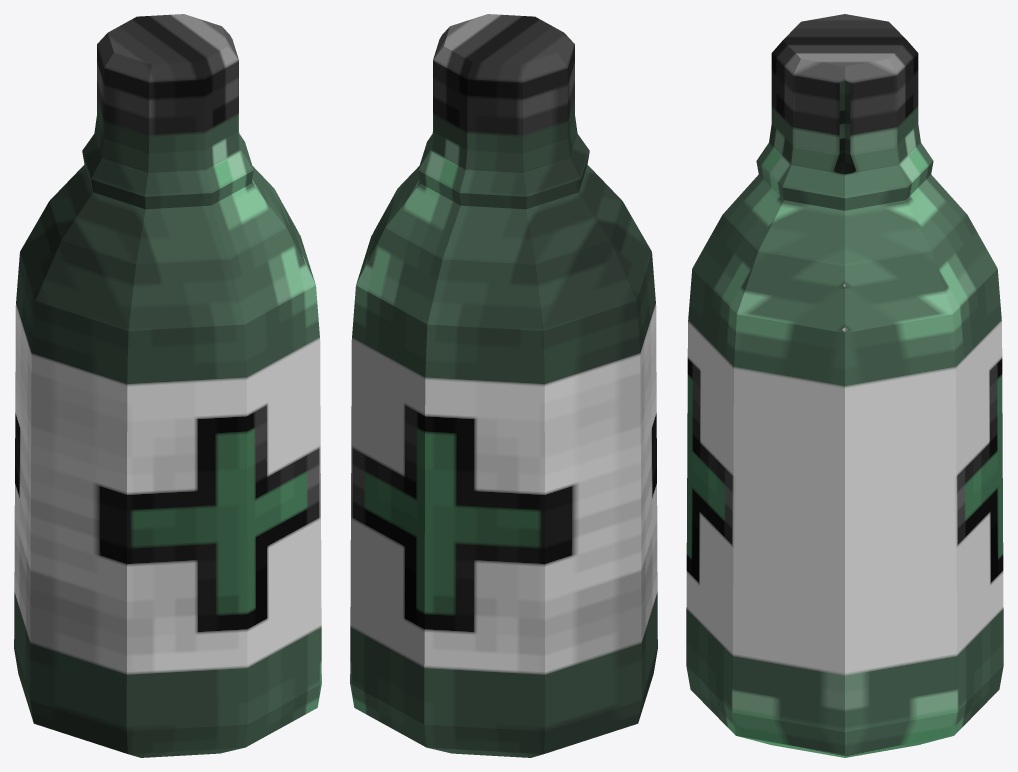
The model's file is Healthy Drink.fbx.
The picture shows the model from 3 angles, left to right: view 1: azimuth 30°, elevation 25°; view 2: azimuth 150°, elevation 25°; view 3: azimuth 270°, elevation 25°; orthographic projection.
Parts seen in each view (by area): view 1: Cylinder; view 2: Cylinder; view 3: Cylinder.
Part boxes in pixels (x1,y1,x2,y2): Cylinder: [14, 14, 321, 757]; Cylinder: [350, 14, 657, 757]; Cylinder: [686, 14, 1003, 757].
Size of the model in its own units: 58.4 by 137 by 58.4.
